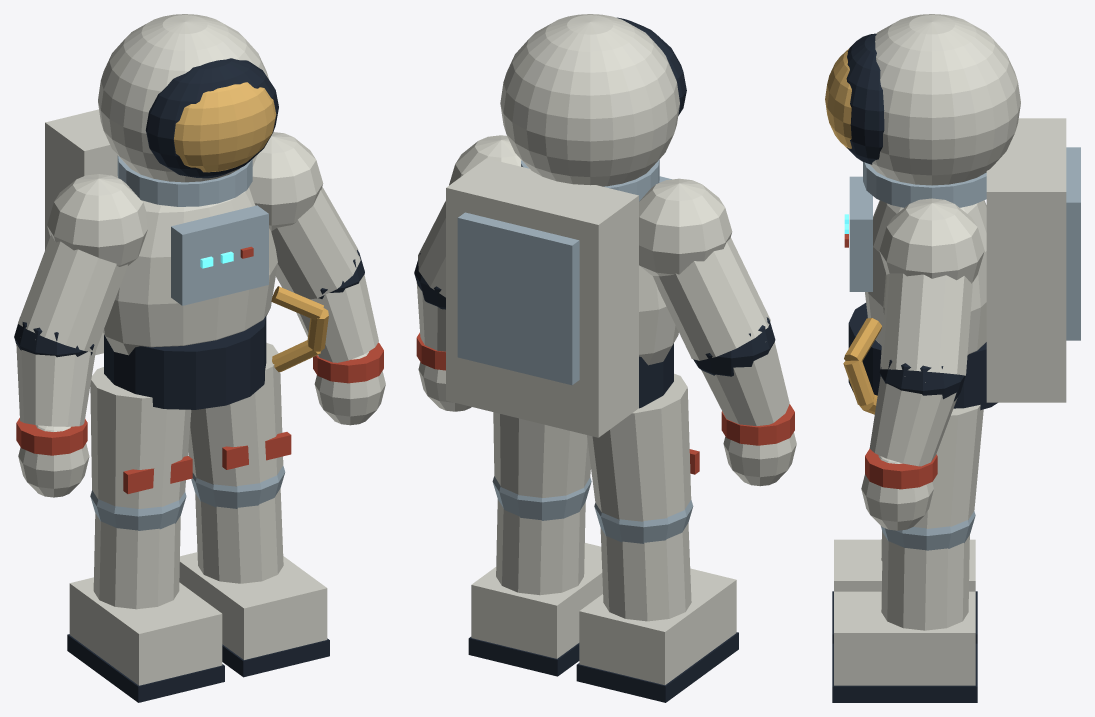
The model's file is astronaut.glb.
3 views of the same model, side by side, from view 1: azimuth 30°, elevation 25°; view 2: azimuth 150°, elevation 25°; view 3: azimuth 270°, elevation 25° (orthographic). The views are drawn at different scales.
Visible parts, largest first — view 1: astronaut; view 2: astronaut; view 3: astronaut.
Boxes of the visible parts, x1=… form: astronaut: x1=14, y1=14, x2=385, y2=702; astronaut: x1=414, y1=14, x2=796, y2=702; astronaut: x1=825, y1=14, x2=1080, y2=702.
Bounding box in the file's own units: 1.16 × 1.92 × 0.705.
